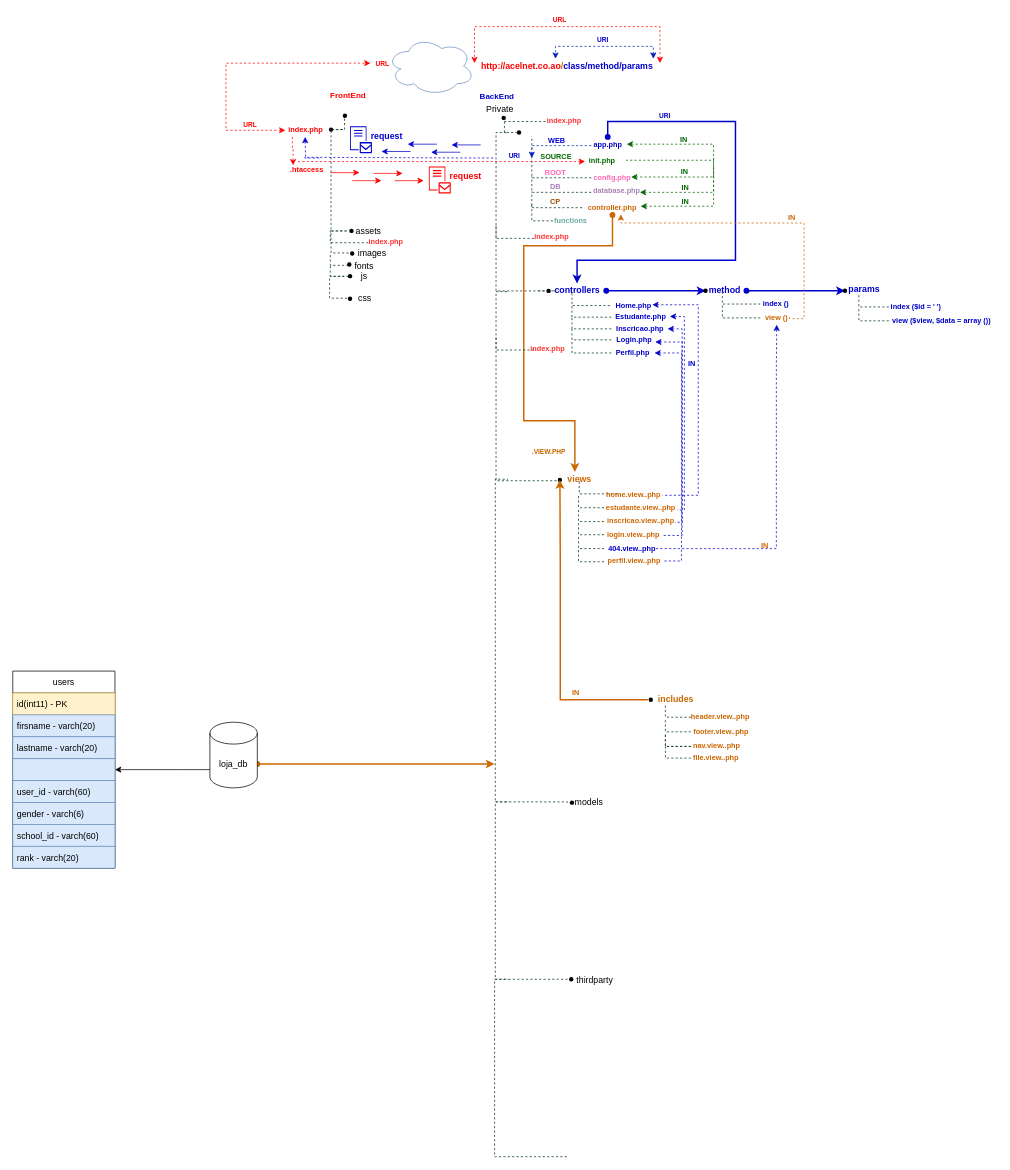
Image size: 1010x1170. Some labels were removed from this diagram. The centre of each missing label's shape, as x and y in pixels:
core: the point at 519,132
date - datetime: the point at 63,769
Public: the point at 345,115
WWW: the point at 430,65
